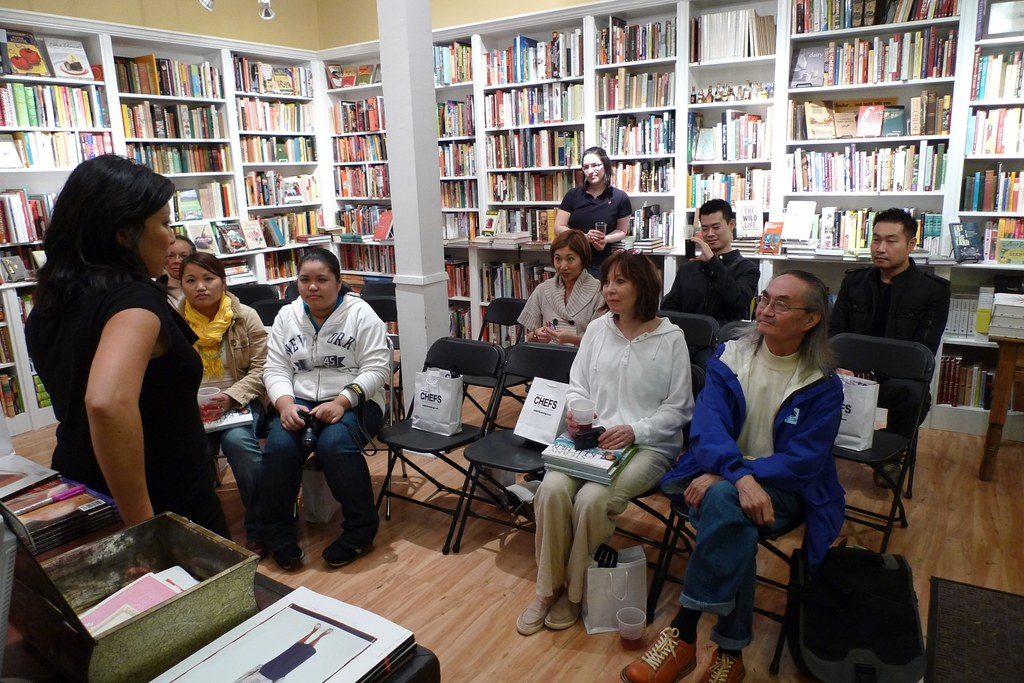Person: (24, 146, 951, 682)
